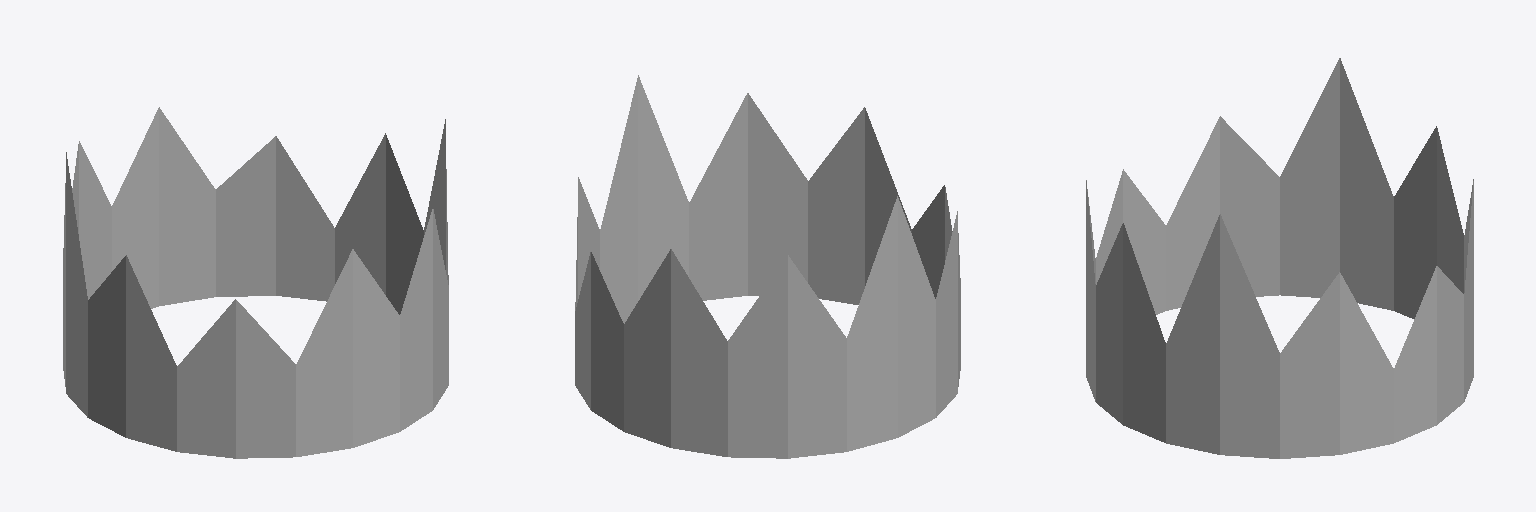
The model's file is Wave.obj.
The picture shows the model from 3 angles: view 1: azimuth 30°, elevation 25°; view 2: azimuth 150°, elevation 25°; view 3: azimuth 270°, elevation 25°; orthographic projection.
Visible parts, largest first — view 1: pPipe1; view 2: pPipe1; view 3: pPipe1.
Part boxes in pixels (x1,y1,x2,y2): pPipe1: (63, 107, 448, 458); pPipe1: (575, 75, 960, 458); pPipe1: (1086, 58, 1473, 458).
Bounding box in the file's own units: 2 × 1.38 × 2.